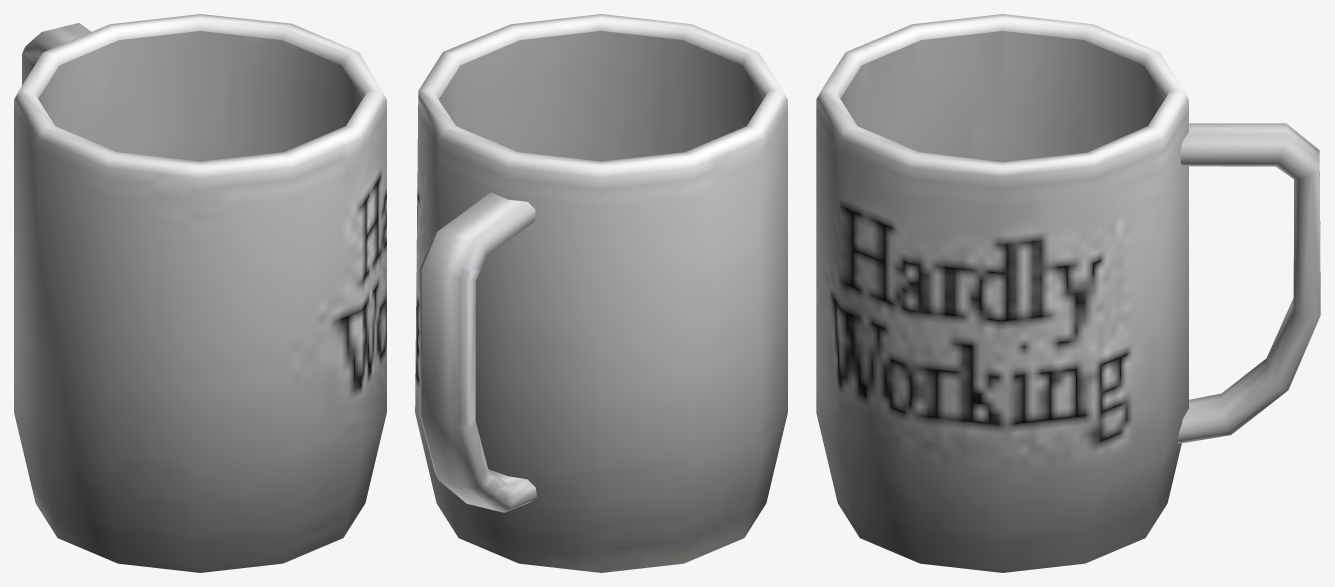
Rendered from coffee_mug.glb.
3 views of the same model, side by side, from view 1: azimuth 30°, elevation 25°; view 2: azimuth 150°, elevation 25°; view 3: azimuth 270°, elevation 25° (orthographic).
Parts seen in each view (by area): view 1: 0_coffee_mug; view 2: 0_coffee_mug; view 3: 0_coffee_mug.
Boxes of the visible parts, box(x1,y1,x2,y2) form: 0_coffee_mug: box(14, 14, 386, 572); 0_coffee_mug: box(415, 14, 787, 572); 0_coffee_mug: box(816, 14, 1320, 572).
Bounding box in the file's own units: 0.1097 × 0.1339 × 0.1484.
1 material, 1 textured.
